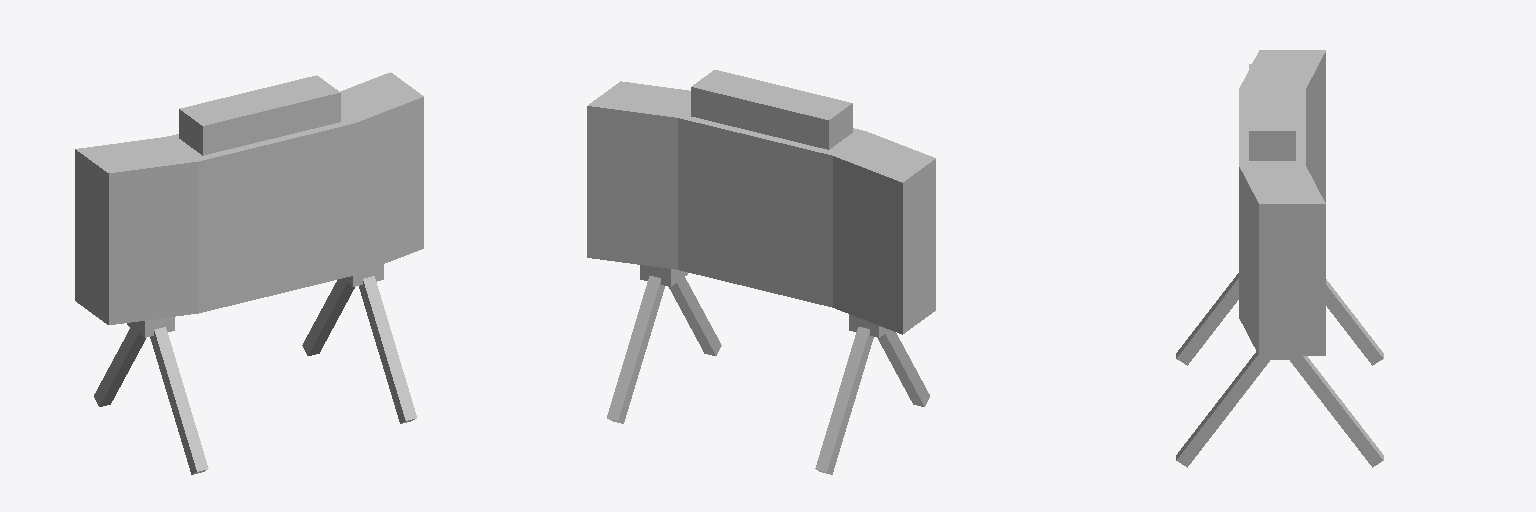
File: M18_Claymore.obj
3 renders of one model, left to right at view 1: azimuth 30°, elevation 25°; view 2: azimuth 150°, elevation 25°; view 3: azimuth 270°, elevation 25°, orthographic.
Parts seen in each view (by area): view 1: M18_Claymore_Cube.018; view 2: M18_Claymore_Cube.018; view 3: M18_Claymore_Cube.018.
Boxes of the visible parts, box(x1,y1,x2,y2) form: M18_Claymore_Cube.018: box(75, 72, 423, 474); M18_Claymore_Cube.018: box(587, 70, 935, 474); M18_Claymore_Cube.018: box(1176, 50, 1383, 467).
Bounding box in the file's own units: 0.2499 × 0.2393 × 0.142.